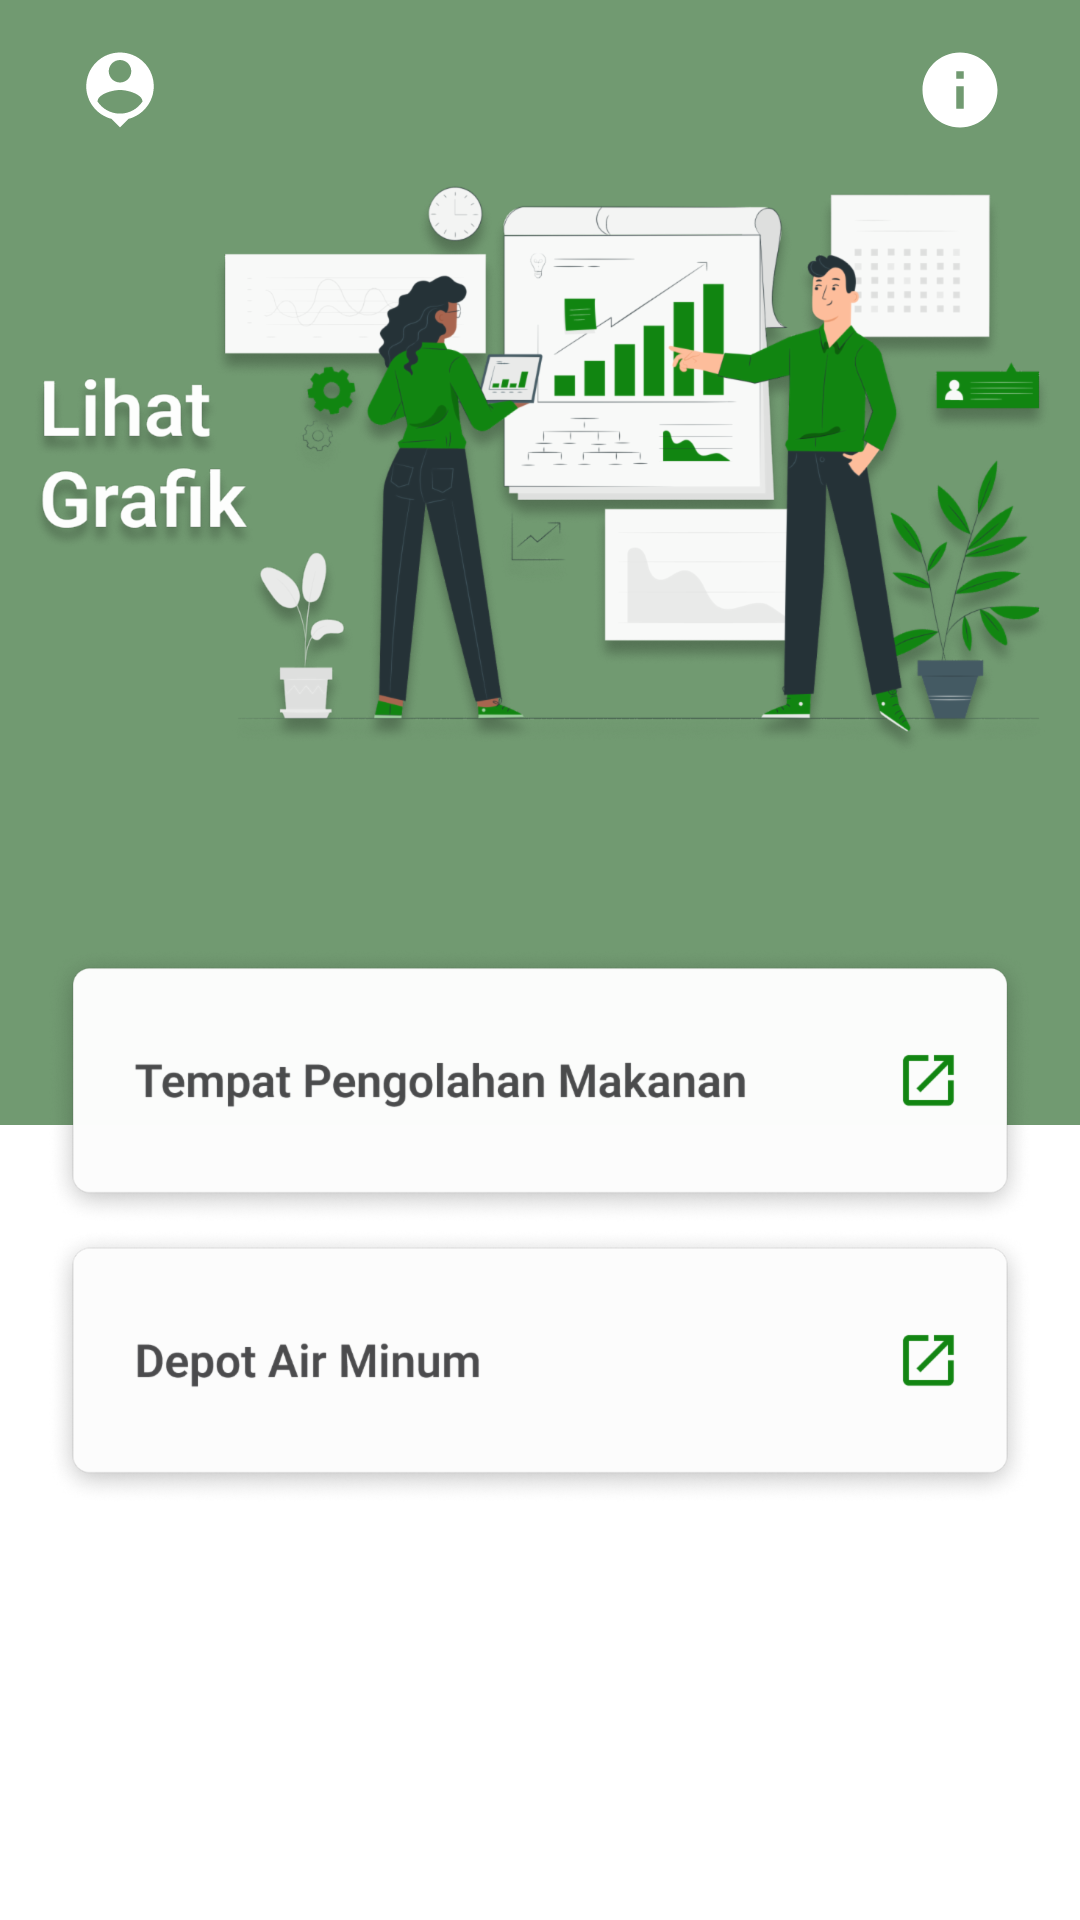

Icon click points for this 1080 × 1920 phone screenshot, format point (x, y):
info: point (960, 90)
person pin: point (120, 89)
